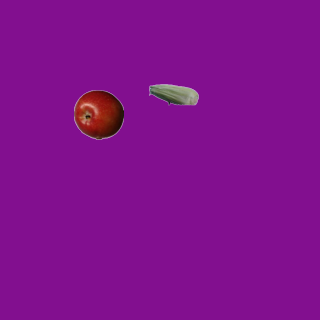Apple Braeburn: (73, 89, 123, 139)
Corn Husk: (148, 69, 198, 119)
